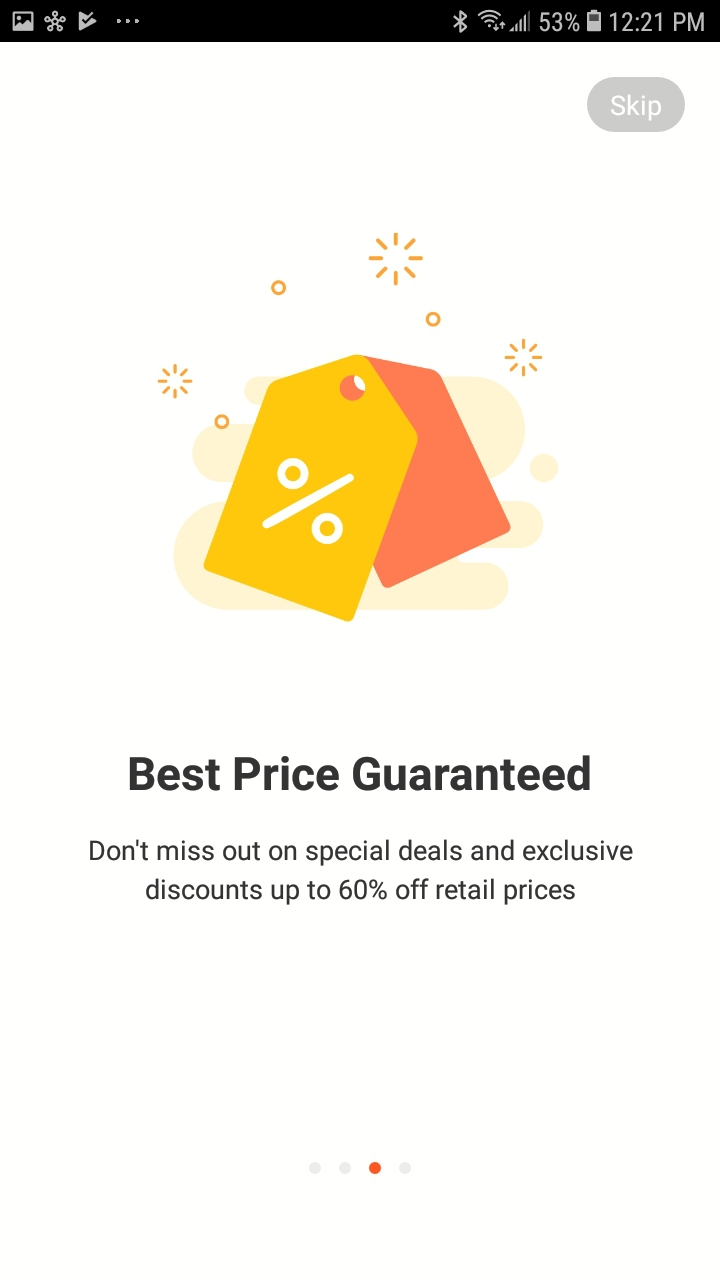Image: (157, 233, 559, 623)
PageIndicator: (308, 1161, 412, 1175)
Text: (90, 838, 633, 906), (131, 755, 591, 792)
TextButton: (587, 77, 686, 133)
UpperTaskBar: (1, 1, 720, 43)
